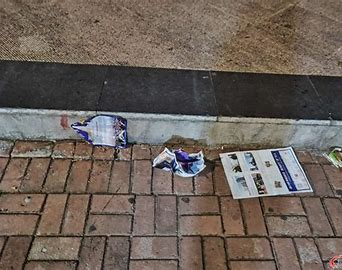garbage: (218, 141, 324, 209), (64, 107, 143, 155), (150, 139, 216, 182)
